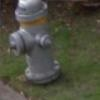cars: (15, 0, 48, 22)
